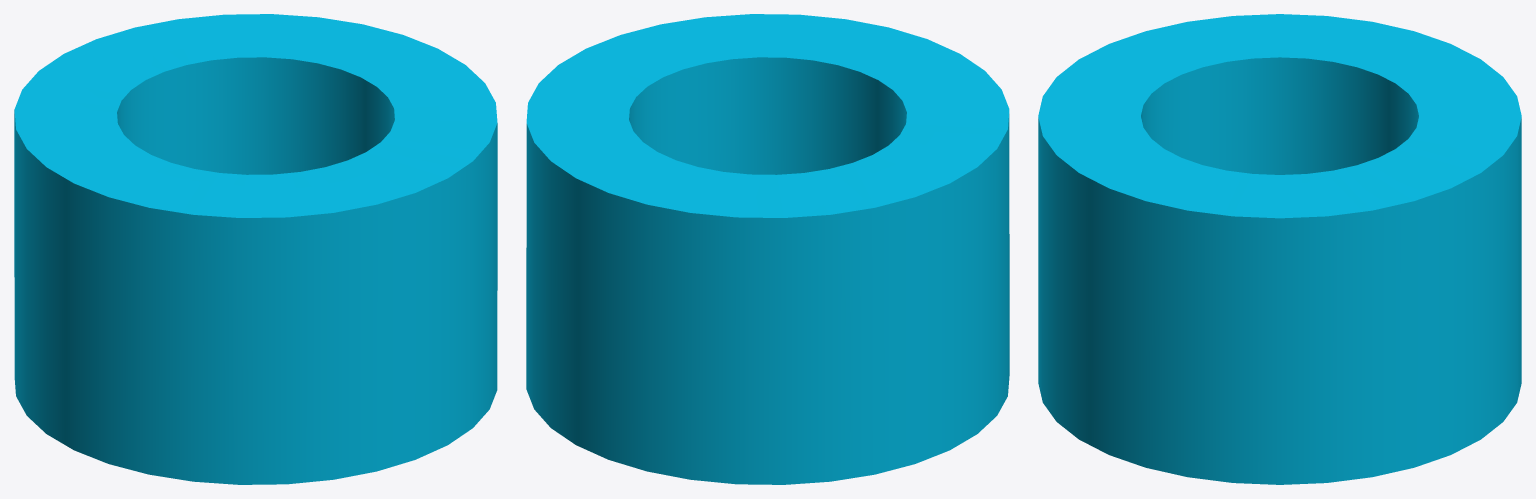
Rendered from SM_Water_Circle.glb.
3 renders of one model, left to right at view 1: azimuth 30°, elevation 25°; view 2: azimuth 150°, elevation 25°; view 3: azimuth 270°, elevation 25°, orthographic.
Parts seen in each view (by area): view 1: SM_WetHallProps_JFG_Water_Circle_Outer__0; view 2: SM_WetHallProps_JFG_Water_Circle_Outer__0; view 3: SM_WetHallProps_JFG_Water_Circle_Outer__0.
Part boxes in pixels (x1,y1,x2,y2): SM_WetHallProps_JFG_Water_Circle_Outer__0: [14, 14, 497, 484]; SM_WetHallProps_JFG_Water_Circle_Outer__0: [526, 14, 1009, 484]; SM_WetHallProps_JFG_Water_Circle_Outer__0: [1038, 14, 1521, 484].
Size of the model in its own units: 34.19 by 20.8 by 34.19.
